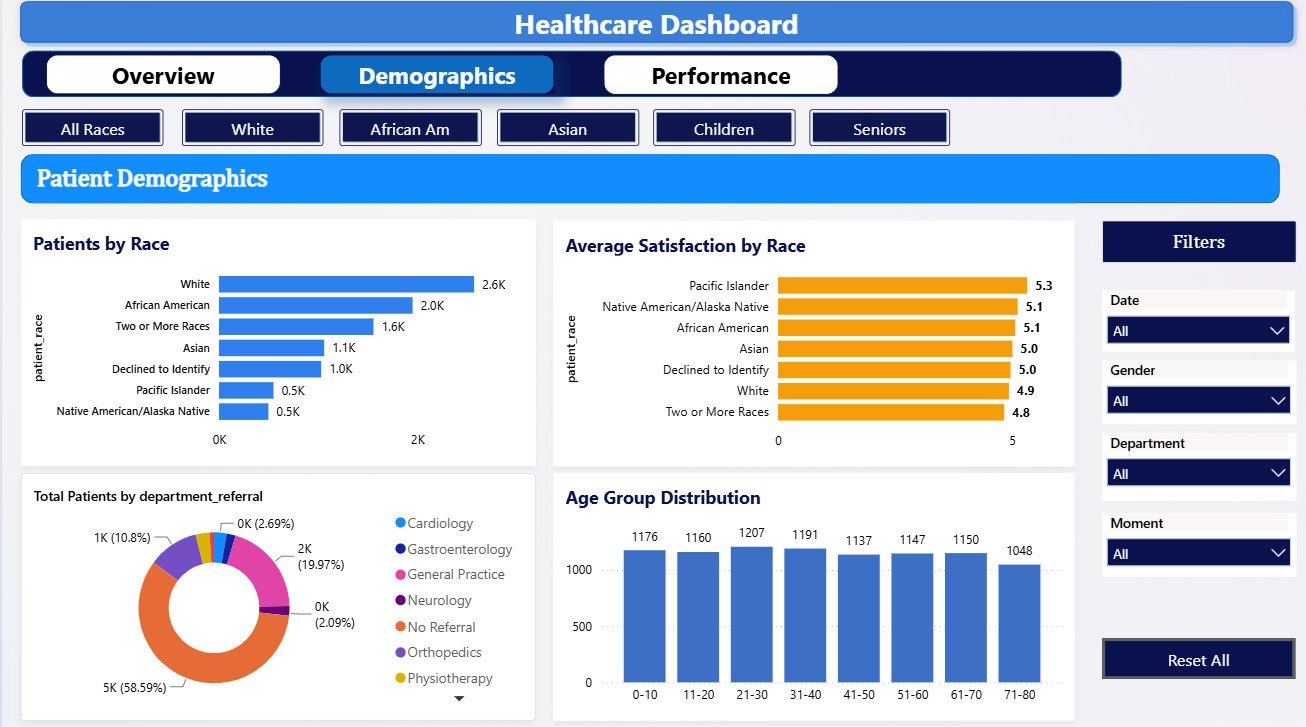

This screenshot's page, from the dashboard's own definition file:
{"tool":"powerbi","page":{"name":"Page 2 Demographics","canvas":[1280,730],"ordinal":1},"visuals":[{"type":"shape","box":[9.7,0,1261.9,56.7],"z":0},{"type":"textbox","box":[120.6,6,1038.7,47.1],"z":1000},{"type":"shape","box":[19.3,56.7,1076.1,45.8],"z":2000},{"type":"actionButton","box":[43.1,60.3,230.2,39.4],"z":3000},{"type":"actionButton","box":[310.2,60.3,230.2,39.4],"z":4000},{"type":"actionButton","box":[588.7,60.3,230.4,39.8],"z":5000},{"type":"shape","box":[1063,205.9,208.7,514.8],"z":6000},{"type":"slicer","fields":{"Values":["Sheet1.Date"]},"box":[1076.2,291.2,188.8,60],"z":7000},{"type":"slicer","fields":{"Values":["Sheet1.patient_gender"]},"box":[1076.2,360,190,62.5],"z":8000},{"type":"slicer","fields":{"Values":["Sheet1.department_referral"]},"box":[1076.2,430,190,66.2],"z":9000},{"type":"slicer","fields":{"Values":["Sheet1.Moment"]},"box":[1076.2,508.8,190,62.5],"z":10000},{"type":"actionButton","box":[1076.9,631.7,189.2,40.3],"z":11000},{"type":"textbox","box":[1076.2,222.5,190,41.2],"z":12000},{"type":"shape","box":[18.5,157.5,1232,48],"z":13000},{"type":"textbox","box":[29.5,157.5,1021.5,48],"z":14000},{"type":"clusteredBarChart","title":"Patients by Race","fields":{"Category":["Sheet1.patient_race"],"Y":["Sheet1.Total Patients"]},"box":[18.1,222,504.3,241.3],"z":15000},{"type":"clusteredColumnChart","title":" Age Group Distribution","fields":{"Category":["Sheet1.Age Bracket"],"Y":["Sheet1.Total Patients"]},"box":[539.8,470.3,510.6,242.1],"z":16000},{"type":"clusteredBarChart","title":"Average Satisfaction by Race","fields":{"Category":["Sheet1.patient_race"],"Y":["Sheet1.Avg Satisfaction"]},"box":[539.8,222.6,510.6,240.7],"z":17000},{"type":"actionButton","box":[19.3,113.4,138.7,36],"z":18000},{"type":"actionButton","box":[176.1,113.4,138.7,36],"z":19000},{"type":"actionButton","box":[329.8,113.2,139.1,35.7],"z":20000},{"type":"actionButton","box":[484.9,113.2,139.1,35.7],"z":21000},{"type":"actionButton","box":[637.5,113.2,139.1,35.7],"z":22000},{"type":"actionButton","box":[790.2,113.2,137.8,35.7],"z":23000},{"type":"donutChart","fields":{"Category":["Sheet1.department_referral"],"Y":["Sheet1.Total Patients"]},"box":[18.1,470.3,503.7,242.1],"z":24000}]}

Visuals, with their boxes in screenshot pixels (x1, y1, x2, y2), scaled from the page's 1280x730 canvas onto the 1306x727 screenshot:
shape: region(10, 0, 1297, 56)
textbox: region(123, 6, 1183, 53)
shape: region(20, 56, 1118, 102)
actionButton: region(44, 60, 279, 99)
actionButton: region(317, 60, 551, 99)
actionButton: region(601, 60, 836, 100)
shape: region(1085, 205, 1298, 718)
slicer - Sheet1.Date: region(1098, 290, 1291, 350)
slicer - Sheet1.patient_gender: region(1098, 359, 1292, 421)
slicer - Sheet1.department_referral: region(1098, 428, 1292, 494)
slicer - Sheet1.Moment: region(1098, 507, 1292, 569)
actionButton: region(1099, 629, 1292, 669)
textbox: region(1098, 222, 1292, 263)
shape: region(19, 157, 1276, 205)
textbox: region(30, 157, 1072, 205)
"Patients by Race" clusteredBarChart: region(18, 221, 533, 461)
" Age Group Distribution" clusteredColumnChart: region(551, 468, 1072, 709)
"Average Satisfaction by Race" clusteredBarChart: region(551, 222, 1072, 461)
actionButton: region(20, 113, 161, 149)
actionButton: region(180, 113, 321, 149)
actionButton: region(336, 113, 478, 148)
actionButton: region(495, 113, 637, 148)
actionButton: region(650, 113, 792, 148)
actionButton: region(806, 113, 947, 148)
donutChart - Sheet1.department_referral x Sheet1.Total Patients: region(18, 468, 532, 709)
